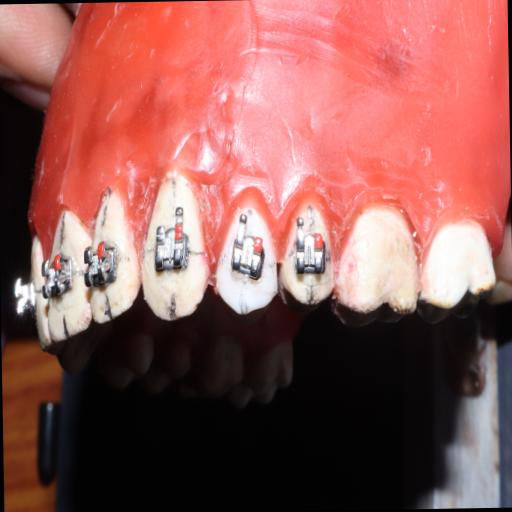correct_brace: (212, 194, 276, 318)
